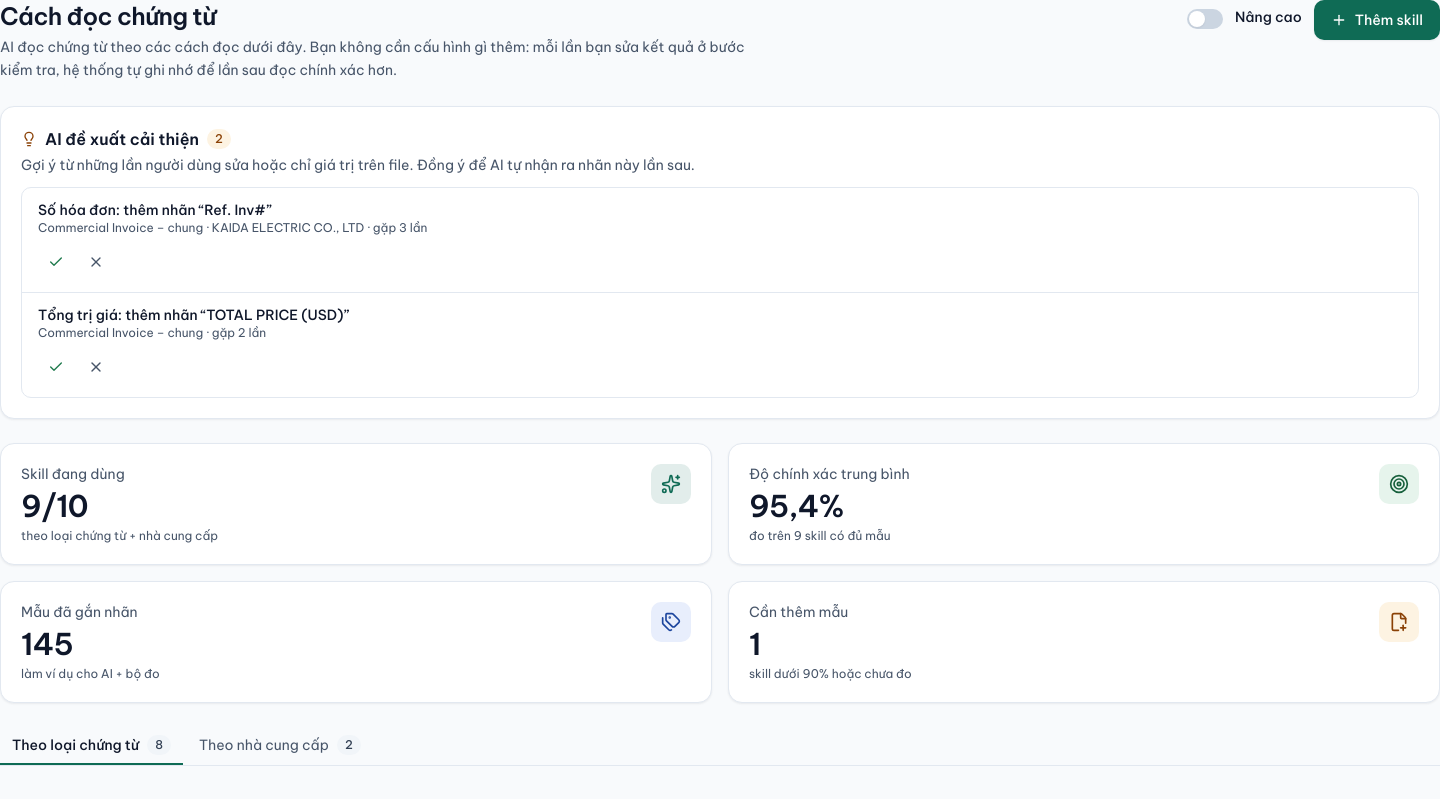
SkillListPage › tên mới, gợi ý ở đầu trang; cột kỹ thuật chỉ hiện khi bật Nâng cao
expect the heading "Cách đọc chứng từ" is shown: met, box left=0, top=1, right=216, bottom=31
expect the heading "AI đề xuất cải thiện 2" is shown: met, box left=21, top=128, right=231, bottom=148
Click the switch named "Nâng cao" at (1205, 19), box left=1187, top=9, right=1223, bottom=29
(page scrolled)
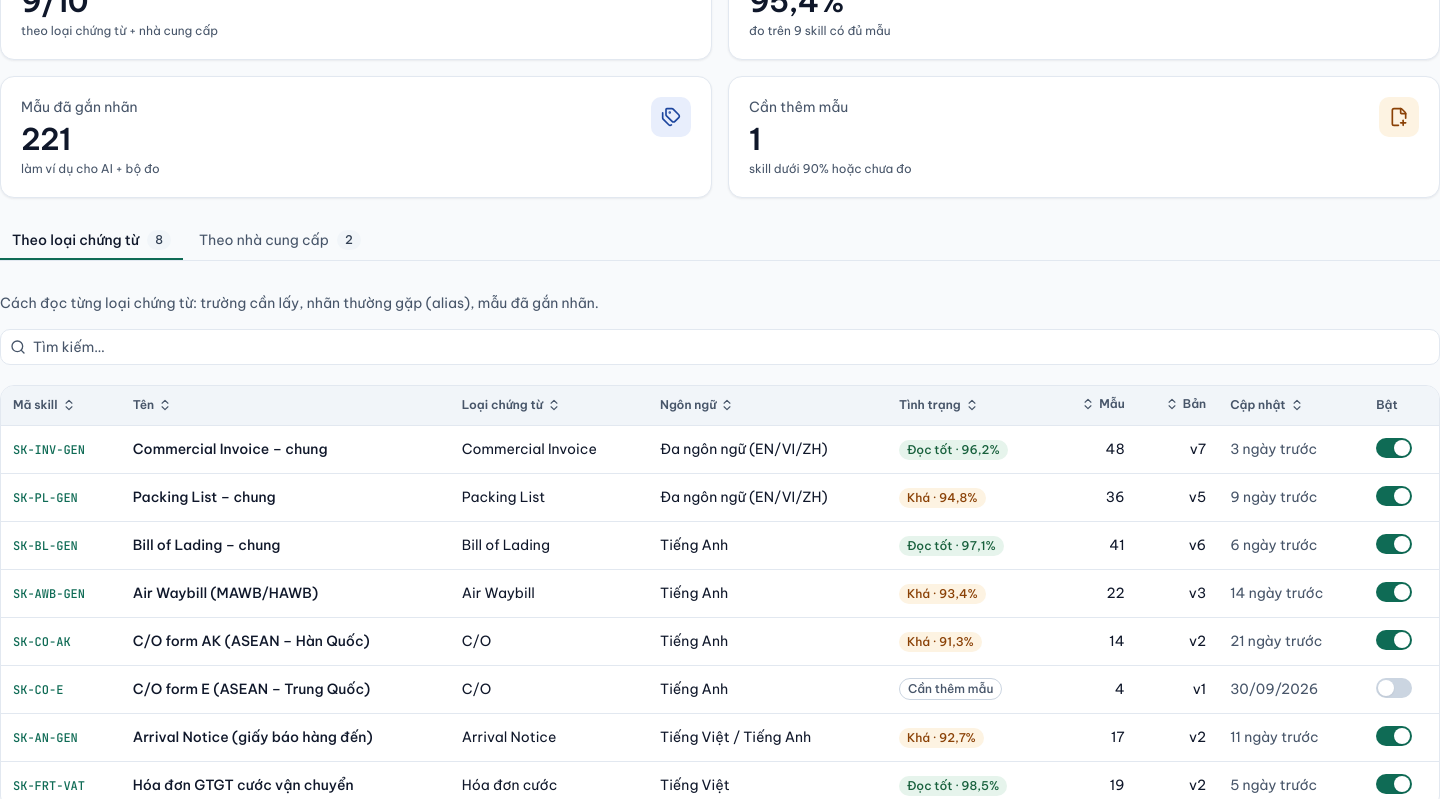
expect the column heading "Mã skill" is shown: met, box left=1, top=386, right=121, bottom=425
